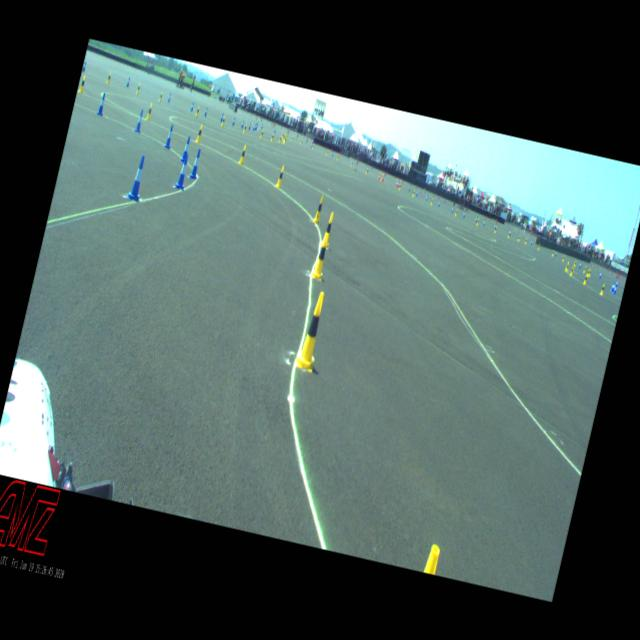blue_cone: (126, 154, 148, 200), (173, 150, 190, 190), (188, 148, 202, 178), (180, 135, 192, 163), (134, 109, 145, 133), (163, 124, 174, 148), (96, 92, 106, 116), (82, 60, 86, 72), (190, 101, 194, 111), (126, 76, 130, 86), (598, 270, 602, 280), (204, 107, 208, 116), (610, 282, 614, 291), (167, 92, 171, 101), (240, 120, 244, 129), (248, 122, 252, 130), (254, 122, 258, 130), (612, 286, 616, 294), (482, 218, 486, 225), (220, 112, 223, 121), (232, 116, 235, 125), (530, 238, 533, 246), (614, 280, 618, 286), (462, 210, 465, 218), (451, 205, 454, 213), (252, 122, 255, 130), (612, 282, 615, 290), (474, 216, 477, 223), (396, 180, 399, 187), (425, 194, 428, 200), (578, 262, 581, 268), (331, 150, 334, 156), (438, 199, 440, 206), (554, 250, 556, 256), (260, 123, 262, 129), (493, 224, 495, 228)
large_orange_cone: (380, 171, 384, 182), (394, 176, 398, 187), (377, 170, 381, 180), (398, 177, 402, 187)
yellow_cone: (294, 290, 330, 372), (310, 232, 332, 280), (422, 543, 442, 575), (320, 210, 336, 248), (312, 194, 326, 223), (275, 165, 285, 188), (238, 144, 246, 164), (195, 124, 203, 142), (78, 75, 86, 93), (145, 102, 153, 120), (194, 106, 200, 116), (600, 283, 605, 294), (106, 72, 111, 83), (582, 274, 587, 284), (136, 82, 140, 93), (242, 122, 246, 132), (564, 261, 568, 271), (221, 116, 225, 126), (158, 91, 162, 101), (570, 266, 574, 276), (270, 132, 274, 142), (260, 128, 263, 138), (582, 266, 586, 272), (506, 230, 509, 238), (573, 260, 576, 268), (586, 268, 589, 276), (278, 135, 281, 143), (537, 243, 540, 250), (551, 249, 554, 256), (524, 237, 527, 244), (517, 234, 520, 241), (398, 183, 401, 190), (562, 254, 564, 262), (454, 208, 456, 216), (588, 268, 590, 276), (476, 218, 478, 225), (430, 198, 432, 205), (494, 226, 496, 233), (412, 189, 414, 196), (380, 173, 382, 180), (326, 149, 328, 156), (350, 160, 352, 167), (283, 134, 285, 140), (300, 138, 302, 144), (312, 144, 314, 150), (336, 154, 338, 160), (366, 168, 368, 174), (290, 136, 292, 140)
